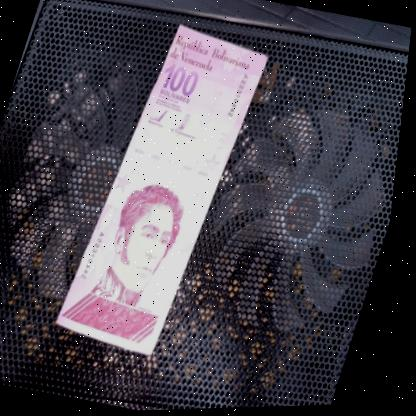one_hundred-front-vef: (54, 17, 276, 364)
